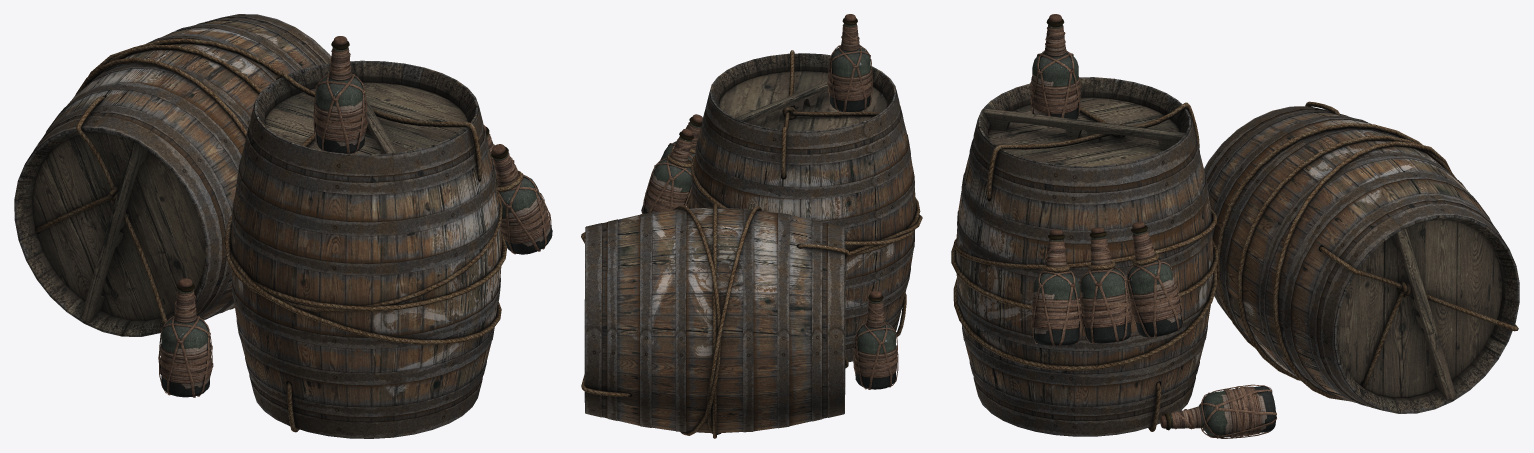
The picture shows the model from 3 angles, left to right: view 1: azimuth 30°, elevation 25°; view 2: azimuth 150°, elevation 25°; view 3: azimuth 270°, elevation 25°; orthographic projection. The views are drawn at different scales.
Visible parts, largest first — view 1: Prop_Barrel, Prop_Barrel.001, Prop_Bottle.002, Prop_Bottle, Prop_BarrelBottles; view 2: Prop_Barrel.001, Prop_Barrel, Prop_Bottle.002, Prop_Bottle, Prop_BarrelBottles; view 3: Prop_Barrel.001, Prop_Barrel, Prop_BarrelBottles, Prop_Bottle.001, Prop_Bottle.
Part boxes in pixels (x1,y1,x2,y2): Prop_Barrel: (224, 60, 507, 438); Prop_Barrel.001: (14, 14, 331, 336); Prop_Bottle.002: (158, 278, 213, 397); Prop_Bottle: (313, 36, 368, 153); Prop_BarrelBottles: (483, 125, 552, 254); Prop_Barrel.001: (581, 203, 849, 438); Prop_Barrel: (687, 50, 922, 362); Prop_Bottle.002: (853, 290, 898, 389); Prop_Bottle: (827, 14, 872, 111); Prop_BarrelBottles: (641, 114, 702, 213); Prop_Barrel.001: (1204, 101, 1519, 413); Prop_Barrel: (951, 77, 1218, 436); Prop_BarrelBottles: (1031, 221, 1183, 346); Prop_Bottle.001: (1160, 384, 1276, 438); Prop_Bottle: (1030, 14, 1080, 128).
Size of what is drawn, in the model's own units: 2.79 by 2.75 by 3.92.
Materials: 2 (2 with a texture image).
